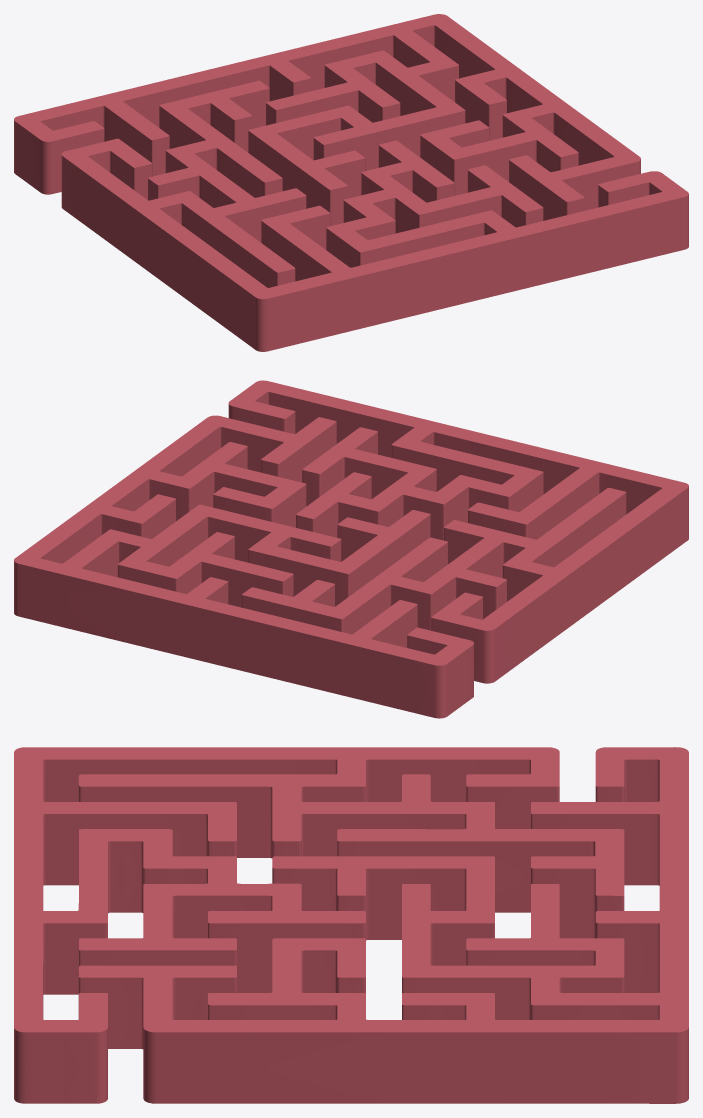
Rendered from Lab1.glb.
The picture shows the model from 3 angles, top to bottom: view 1: azimuth 30°, elevation 25°; view 2: azimuth 150°, elevation 25°; view 3: azimuth 270°, elevation 25°; orthographic projection. The views are drawn at different scales.
Parts seen in each view (by area): view 1: AdobeIllustratorMesh2, AdobeIllustratorMesh1; view 2: AdobeIllustratorMesh1, AdobeIllustratorMesh2; view 3: AdobeIllustratorMesh1, AdobeIllustratorMesh2.
Part boxes in pixels (x1,y1,x2,y2): AdobeIllustratorMesh2: (61, 80, 688, 351); AdobeIllustratorMesh1: (14, 14, 640, 225); AdobeIllustratorMesh1: (14, 415, 473, 718); AdobeIllustratorMesh2: (228, 380, 688, 683); AdobeIllustratorMesh1: (78, 747, 688, 1103); AdobeIllustratorMesh2: (14, 747, 624, 1103).
Bounding box in the file's own units: 29.98 × 3.5 × 29.97.
